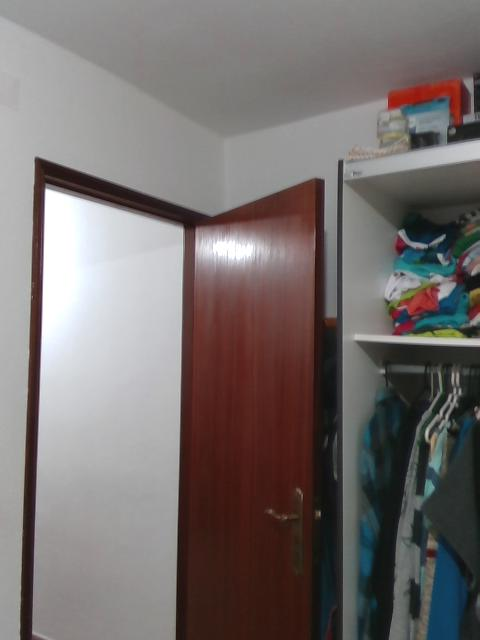open_door: (20, 157, 226, 638)
